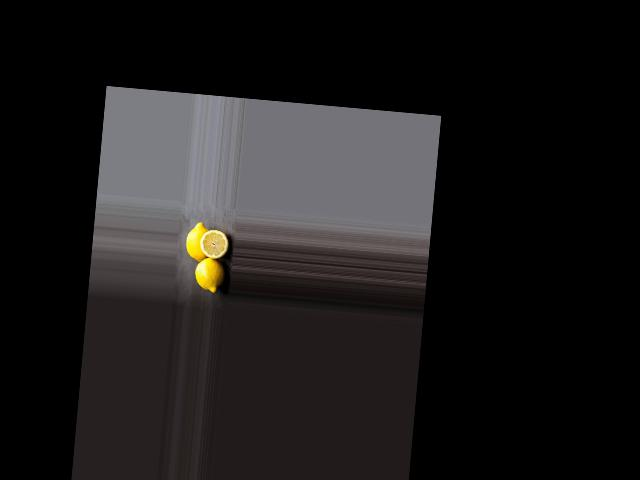lemon: (181, 218, 212, 263)
